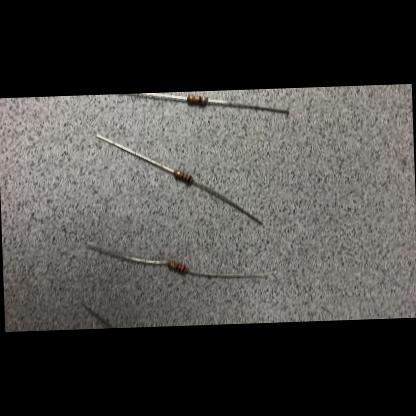resistor: (174, 170, 192, 184), (168, 260, 186, 274), (187, 95, 207, 104)
wire: (192, 179, 262, 228), (96, 132, 172, 176), (84, 238, 166, 268), (207, 96, 288, 116), (187, 267, 266, 280), (80, 302, 112, 330), (124, 92, 186, 104)
